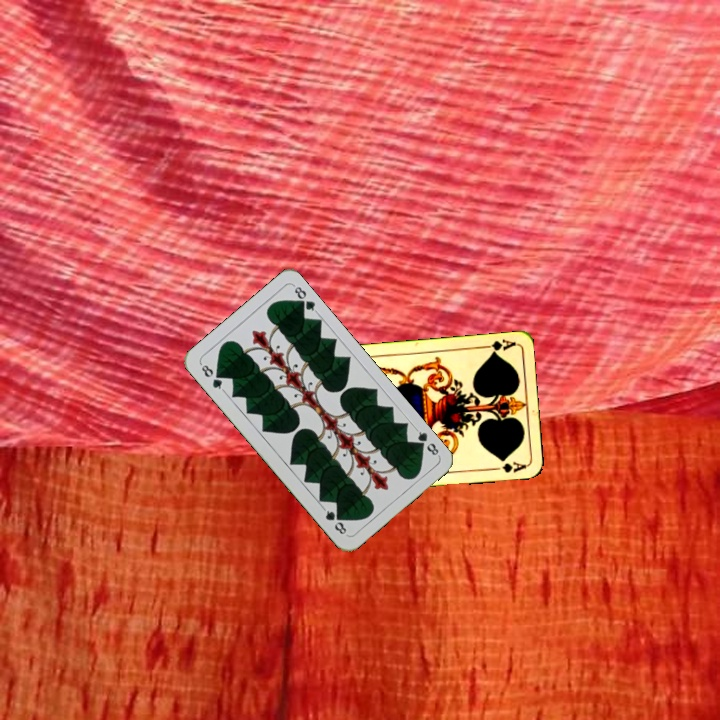G8: (412, 424, 442, 459), (197, 360, 227, 394)
GA: (476, 335, 517, 356)
